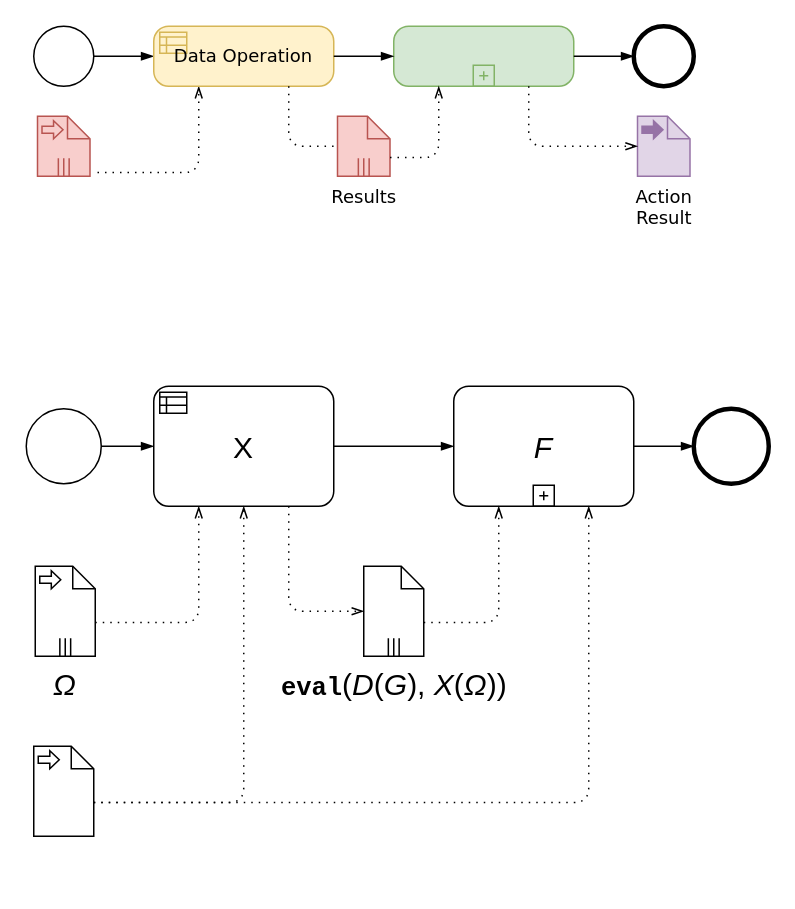
Some shapes in this 795 by 909 pixel diagram are drawn without their labels. Each missing label, with the centre of its shape:
"D ( G )" belongs at point 63,790.
"Input" belongs at point 63,145.
"Subflow" belongs at point 483,55.
